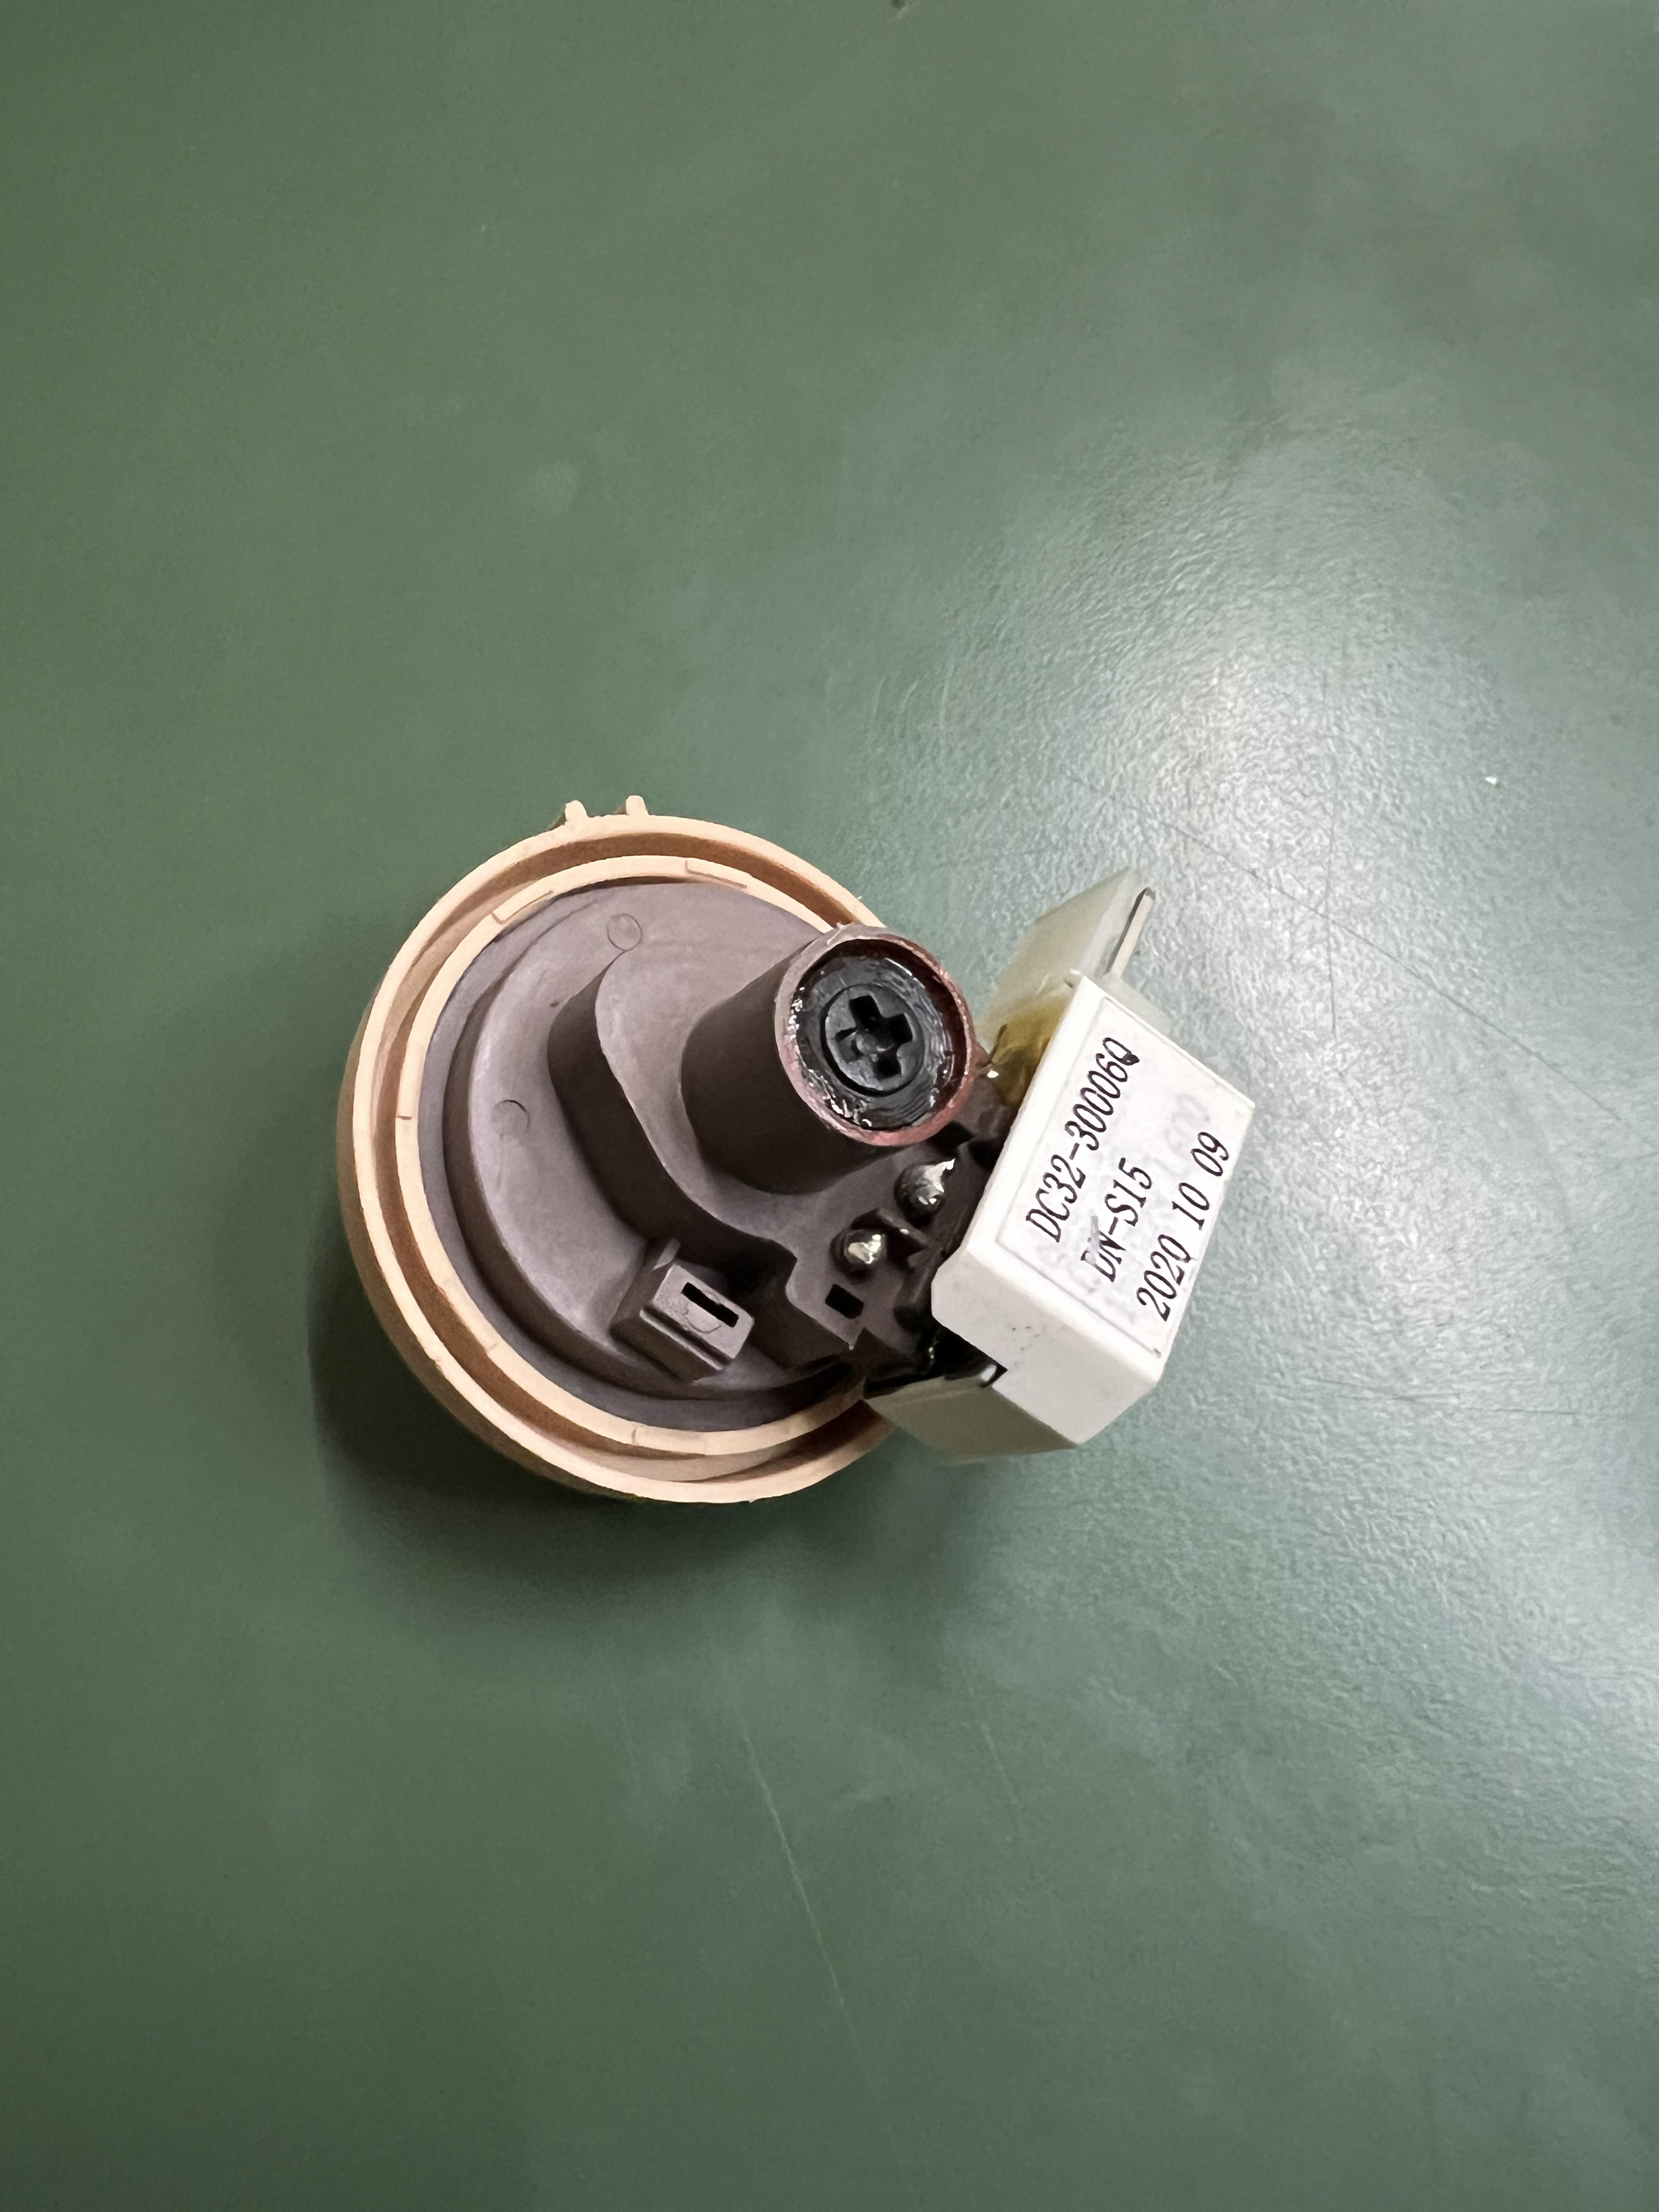pressure_sensor: (326, 779, 1288, 1521)
